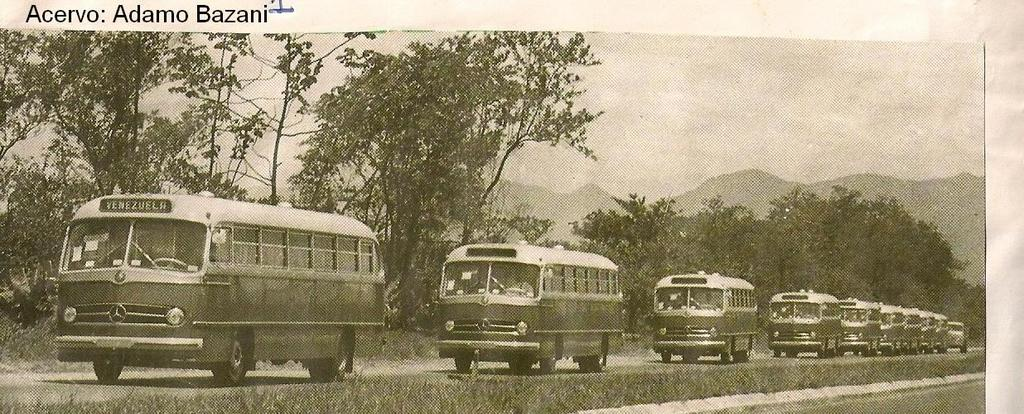Bus: (50, 181, 386, 387), (434, 239, 619, 372), (768, 288, 967, 354), (656, 272, 763, 363)
